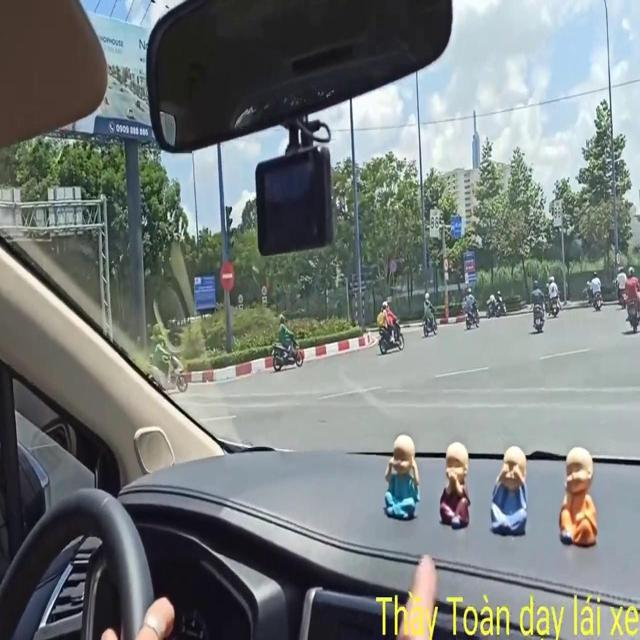Cấm các phương tiện hoạt động trong khung giờ cố định: (427, 201, 439, 238), (552, 195, 564, 225)
Cấm dừng - Cấm đỗ: (388, 256, 397, 274)
Cấm đi ngược chiều: (217, 254, 236, 291)
Khác: (191, 273, 219, 315), (345, 268, 370, 294), (461, 249, 479, 285)
Làn đường cho từng xe: (445, 211, 463, 237)
